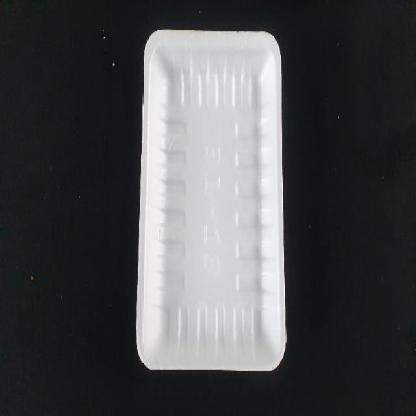Glass Cup: (135, 30, 287, 372), (136, 29, 286, 371)
